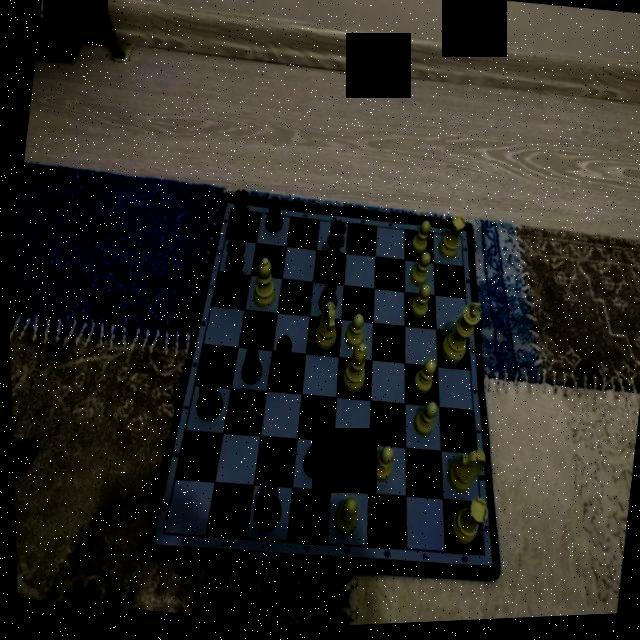chess-table-corners: (452, 232, 467, 248), (154, 528, 168, 542), (476, 551, 486, 566), (225, 206, 235, 216)
